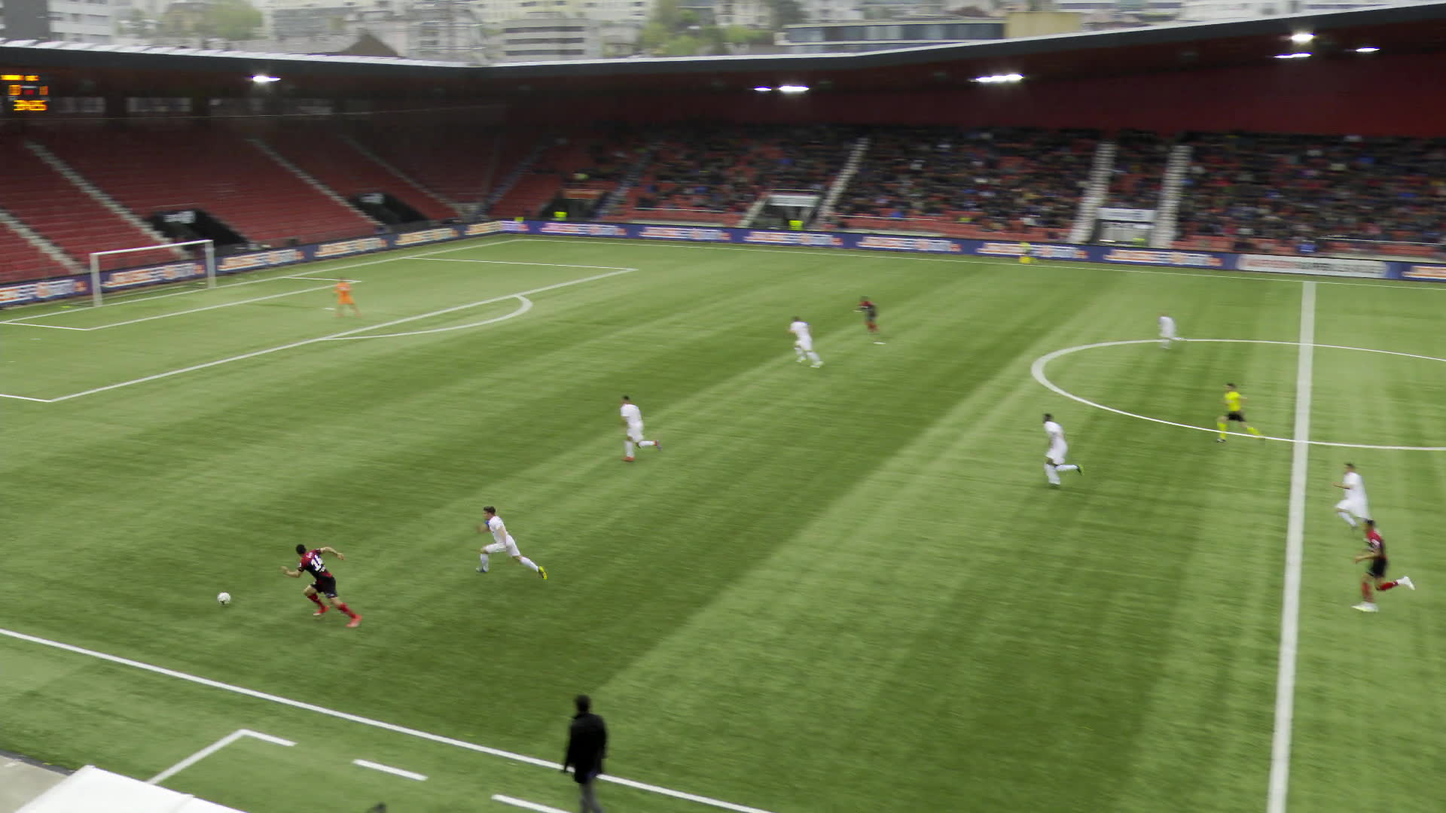ball: (217, 591, 230, 604)
player: (279, 544, 362, 627), (1350, 519, 1415, 613), (474, 505, 547, 578), (1332, 461, 1381, 536), (1042, 413, 1084, 488), (618, 394, 661, 461), (785, 315, 824, 367), (331, 276, 360, 318), (1155, 312, 1186, 350), (853, 294, 880, 334)
referee: (1215, 382, 1265, 442), (1018, 239, 1039, 263)
